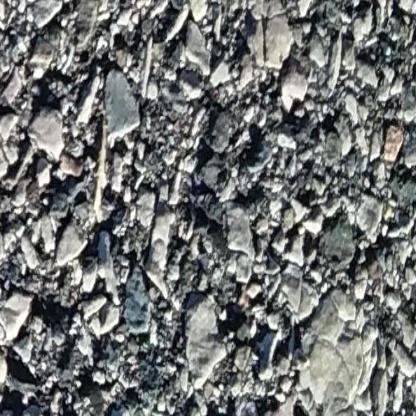Cracks: (0, 339, 45, 389), (0, 100, 20, 154)
